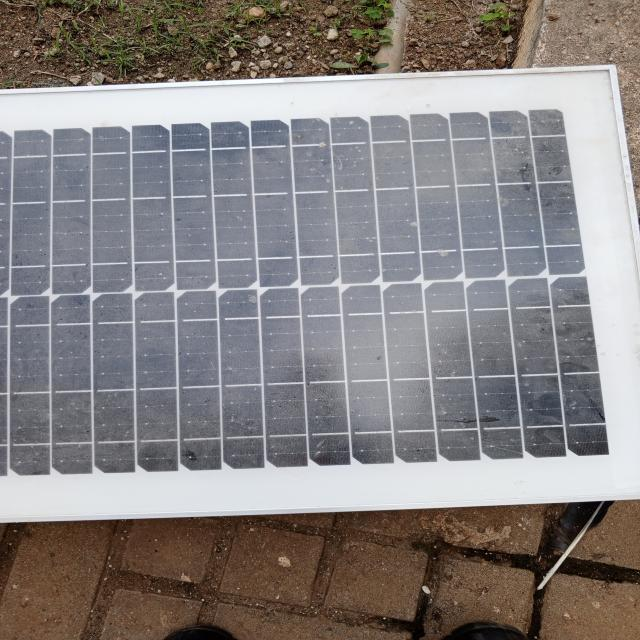Surface Contaminant: (4, 111, 567, 463)
